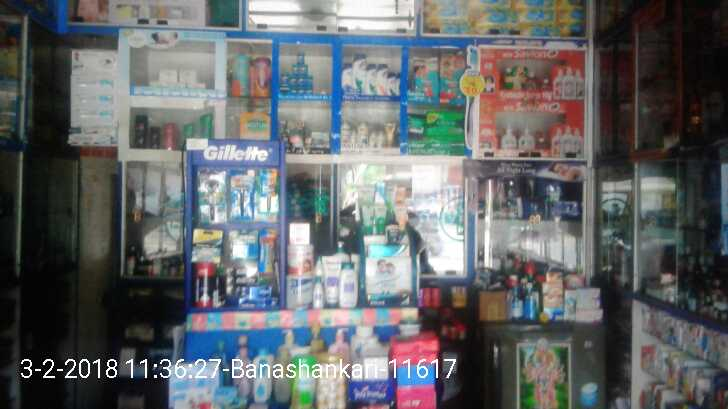beauty: (201, 163, 225, 221), (226, 164, 250, 221), (254, 168, 275, 223), (352, 55, 365, 96), (376, 61, 387, 94), (388, 72, 398, 101), (366, 63, 375, 95), (295, 47, 306, 64)
pharmacy: (439, 52, 469, 103), (408, 55, 440, 101), (424, 109, 466, 138)
